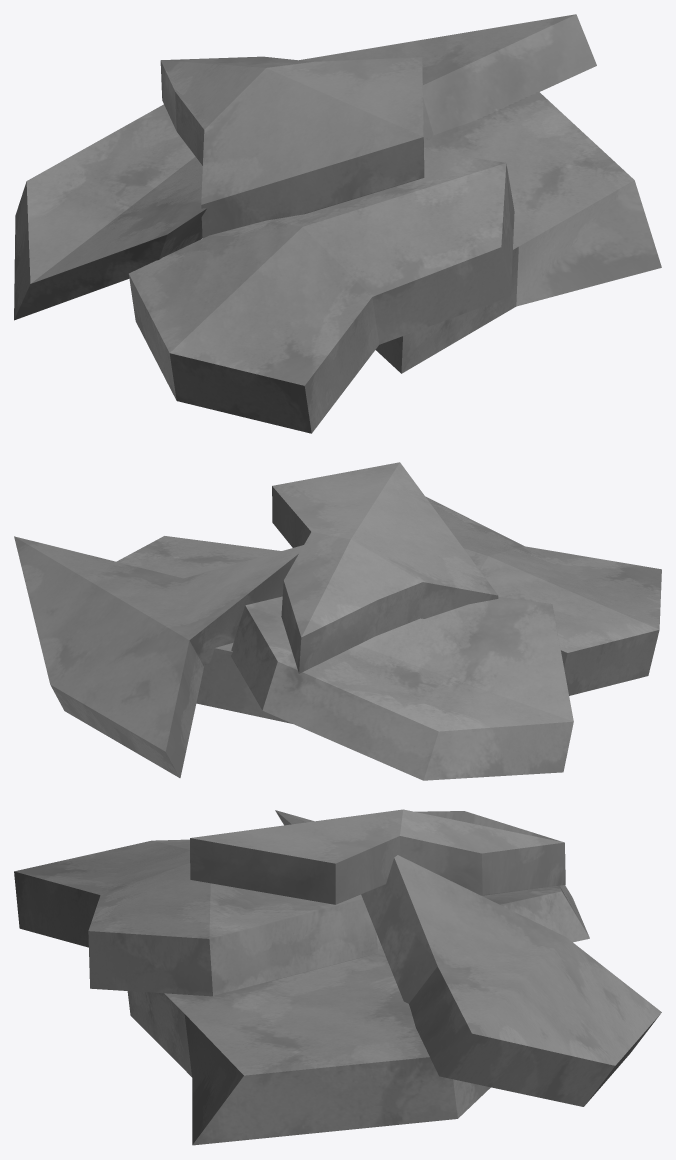
The model's file is Concreto1.fbx.
3 views of the same model, one above another, from view 1: azimuth 30°, elevation 25°; view 2: azimuth 150°, elevation 25°; view 3: azimuth 270°, elevation 25° (orthographic). The views are drawn at different scales.
Parts seen in each view (by area): view 1: Cubo; view 2: Cubo; view 3: Cubo.
Part boxes in pixels (left/top/right/bottom): Cubo: left=14, top=14, right=661, bottom=433; Cubo: left=14, top=462, right=661, bottom=780; Cubo: left=14, top=809, right=661, bottom=1145.
Bounding box in the file's own units: 325 × 110 × 306.
